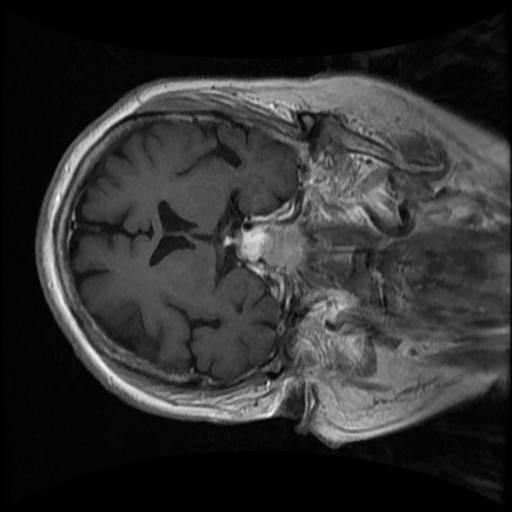pituitary tumour: (238, 228, 265, 262)
